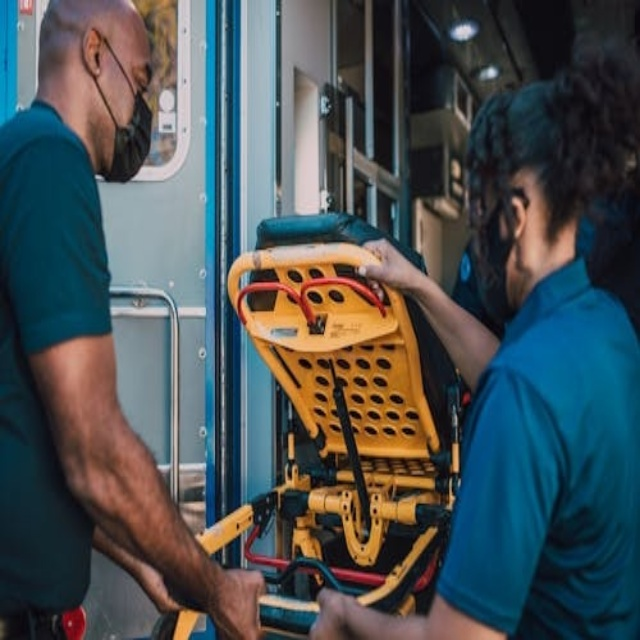Mascara: (84, 35, 156, 186), (467, 188, 521, 317)
Sin_gafas: (120, 37, 160, 98)
Sin_guantes: (357, 227, 422, 302), (207, 563, 267, 639), (307, 588, 367, 640)
